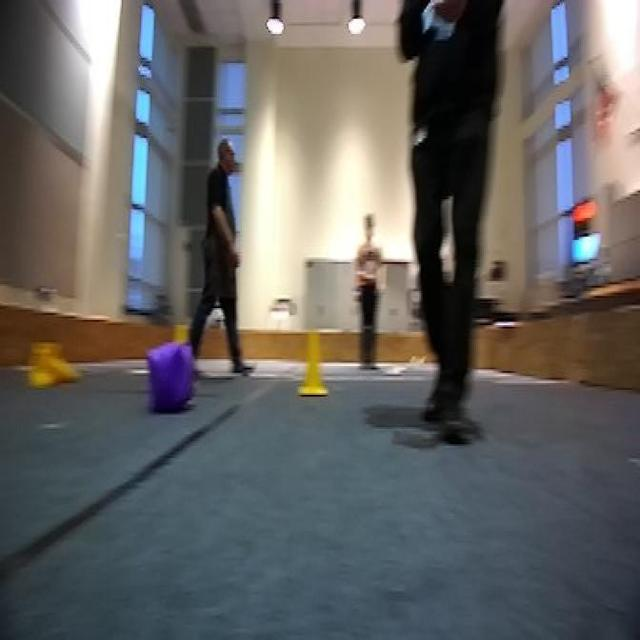frc_cone: (171, 328, 203, 398), (32, 341, 72, 388), (300, 328, 327, 396)
frc_cube: (143, 334, 190, 417)
